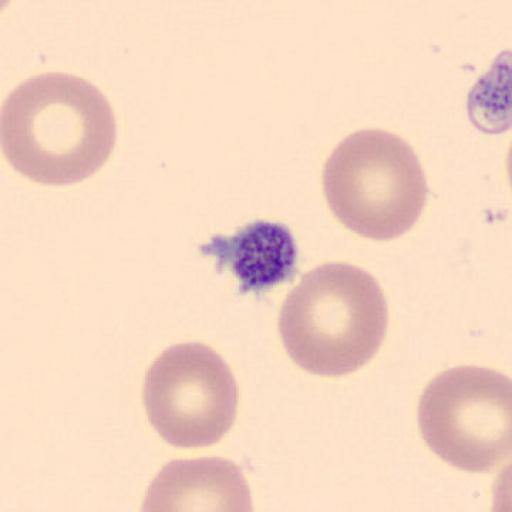Platelet: (220, 216, 302, 296), (462, 47, 512, 139)
RBC: (0, 67, 119, 189), (276, 259, 390, 380), (320, 125, 430, 243), (140, 339, 241, 451), (415, 361, 512, 475), (138, 453, 256, 512), (489, 458, 512, 512), (505, 116, 512, 230)
